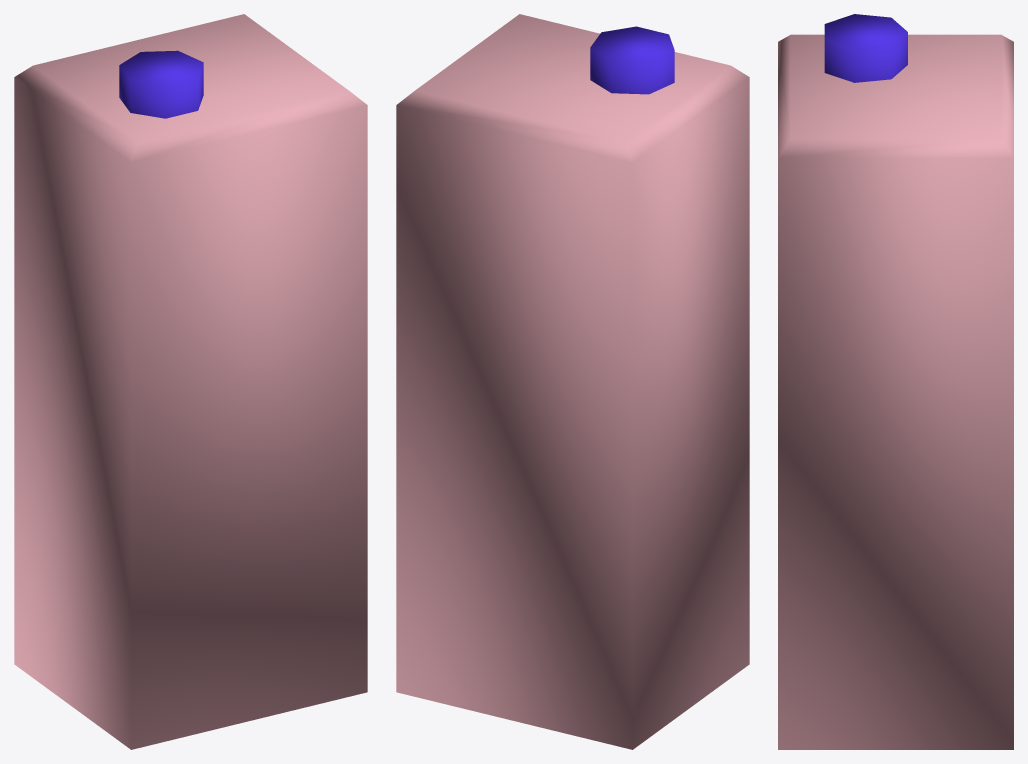
The model's file is succo_pesca.fbx.
The picture shows the model from 3 angles, left to right: view 1: azimuth 30°, elevation 25°; view 2: azimuth 150°, elevation 25°; view 3: azimuth 270°, elevation 25°; orthographic projection.
Parts seen in each view (by area): view 1: pesca; view 2: pesca; view 3: pesca.
Boxes of the visible parts, x1=… form: pesca: x1=14, y1=14, x2=367, y2=749; pesca: x1=396, y1=14, x2=749, y2=749; pesca: x1=778, y1=14, x2=1013, y2=749.
Size of the model in its own units: 82.46 by 211 by 70.7.
